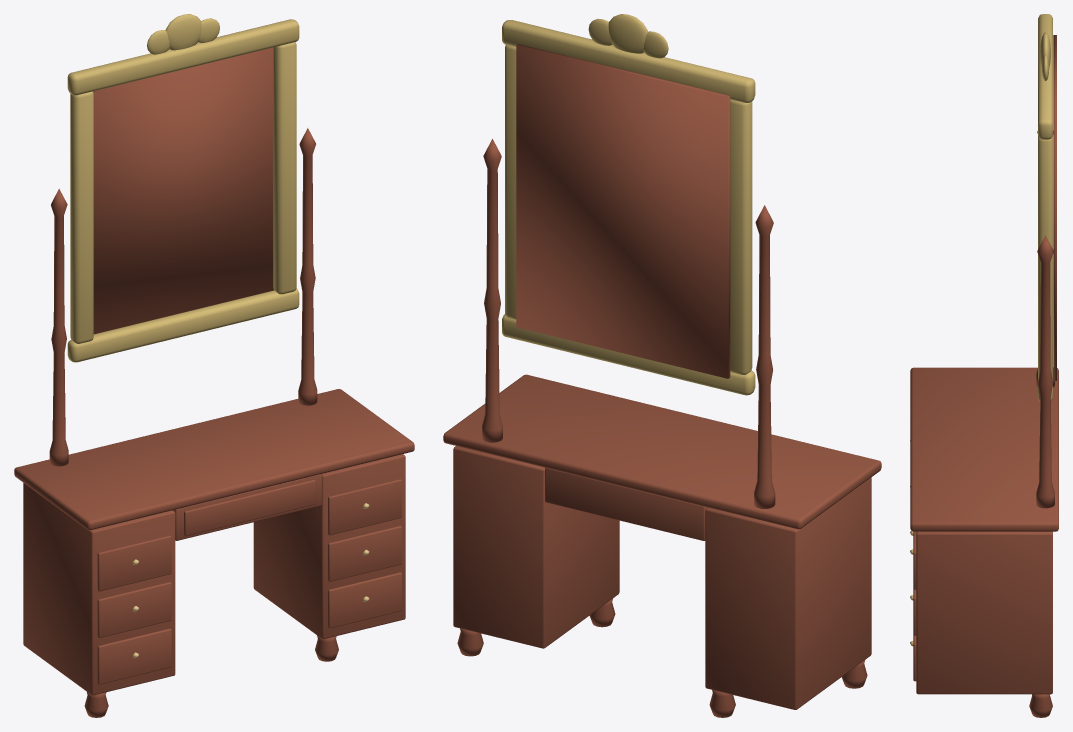
File: vanity.glb
3 views of the same model, side by side, from view 1: azimuth 30°, elevation 25°; view 2: azimuth 150°, elevation 25°; view 3: azimuth 270°, elevation 25° (orthographic). The views are drawn at different scales.
Parts seen in each view (by area): view 1: backboard, top, pedestal-1, pedestal1, frameLeft, frameRight, frameTop, frameBottom, post1, post-1, middrawer, drawer-10 (+7 smaller); view 2: backboard, top, pedestal-1, pedestal1, frameLeft, frameTop, apron, post-1, post1, frameBottom, frameRight, crest1; view 3: top, pedestal1, post1, frameRight, frameTop, backboard, foot11, crest1.
Boxes of the visible parts, x1,y1,x2,y2 form: backboard: (93, 47, 273, 334); top: (14, 389, 414, 530); pedestal-1: (23, 483, 175, 695); pedestal1: (253, 454, 405, 639); frameLeft: (70, 91, 93, 343); frameRight: (273, 42, 296, 294); frameTop: (67, 19, 299, 95); frameBottom: (67, 288, 299, 362); post1: (298, 128, 317, 405); post-1: (49, 188, 68, 466); middrawer: (184, 479, 315, 535); drawer-10: (97, 628, 171, 684); backboard: (516, 44, 730, 378); top: (443, 374, 881, 529); pedestal-1: (705, 477, 871, 709); pedestal1: (453, 446, 619, 648); frameLeft: (730, 99, 752, 374); frameTop: (502, 20, 755, 102); apron: (545, 467, 707, 540); post-1: (754, 205, 775, 508); post1: (482, 139, 502, 442); frameBottom: (502, 314, 755, 395); frameRight: (505, 44, 516, 319); crest1: (608, 14, 648, 53); top: (910, 367, 1058, 531); pedestal1: (916, 531, 1052, 694); post1: (1036, 235, 1054, 508); frameRight: (1038, 135, 1052, 379); frameTop: (1038, 14, 1052, 139); backboard: (1053, 35, 1056, 380); foot11: (1029, 694, 1052, 717); crest1: (1040, 32, 1050, 67).
Size of the model in its own units: 1.25 by 2.26 by 0.5014.
